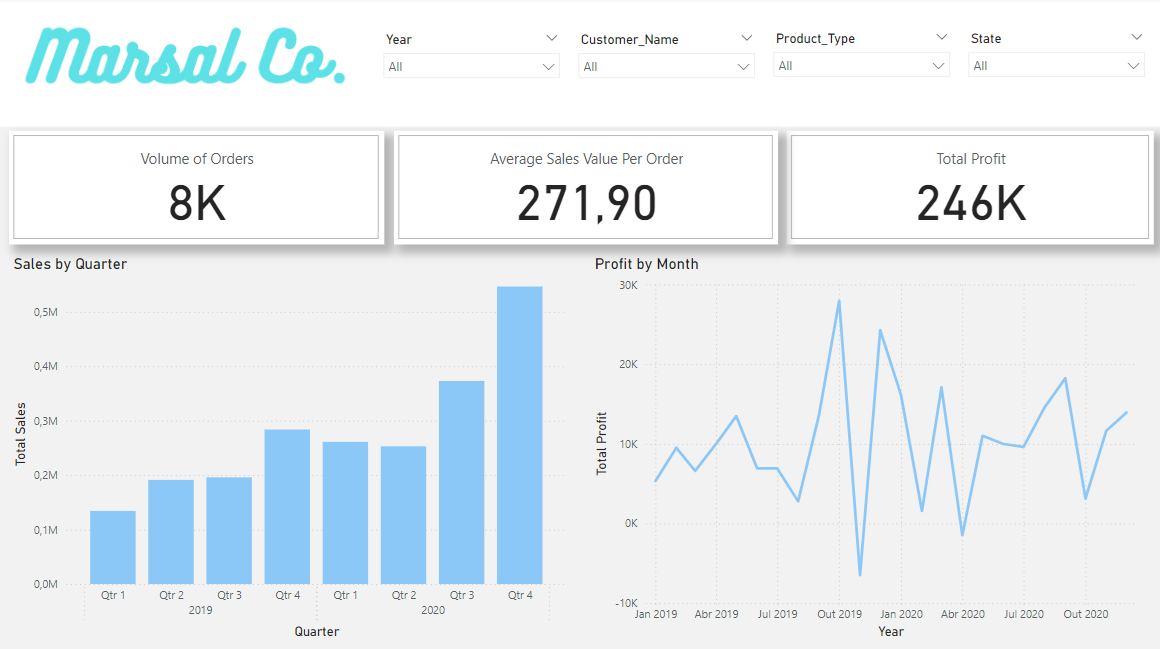

The page's visual inventory and layout, read from the dashboard file:
{"tool":"powerbi","page":{"name":"Overview","canvas":[1280,720],"ordinal":0},"visuals":[{"type":"cardVisual","title":"Volume of Orders","fields":{"Data":["_Measures.Order_Volume"]},"box":[11,146.8,411.7,124.9],"z":0},{"type":"cardVisual","fields":{"Data":["_Measures.Total Profit"]},"box":[864.5,146.8,403.4,124.9],"z":1000},{"type":"cardVisual","title":"Average Order Value","fields":{"Data":["_Measures.Average Sales Value Per Order"]},"box":[433.6,146.8,421.3,124.9],"z":2000},{"type":"columnChart","title":"Sales by Quarter","fields":{"Category":["Dim_Date.Date.Variation.Date Hierarchy.Year","Dim_Date.Date.Variation.Date Hierarchy.Quarter"],"Y":["_Measures.Total Sales"]},"box":[11,282.7,617.5,426.8],"z":3000},{"type":"lineChart","title":"Profit by Month","fields":{"Y":["_Measures.Total Profit"],"Category":["Dim_Date.Date.Variation.Date Hierarchy.Year","Dim_Date.Date.Variation.Date Hierarchy.Month"]},"box":[649.1,282.7,618.9,426.8],"z":4000},{"type":"slicer","fields":{"Values":["Dim_Location.State"]},"box":[1053.9,72.7,214.1,67.2],"z":5000},{"type":"slicer","fields":{"Values":["Dim_Date.Date.Variation.Date Hierarchy.Year"]},"box":[411.7,67.2,214.1,67.2],"z":6000},{"type":"slicer","fields":{"Values":["Dim_Client.Customer_Name"]},"box":[625.7,67.2,214.1,67.2],"z":7000},{"type":"slicer","fields":{"Values":["Dim_Product.Product_Type"]},"box":[839.8,72.7,214.1,67.2],"z":8000},{"type":"image","box":[11,9.6,391.1,124.9],"z":9000},{"type":"shape","box":[415.5,9.6,864.5,52.1],"z":9001},{"type":"textbox","box":[980.9,9.6,299.1,52.1],"z":9002}]}

Visuals, with their boxes in screenshot pixels (x1, y1, x2, y2), scaled from the page's 1280x720 canvas onto the 1160x649 screenshot:
"Volume of Orders" cardVisual: {"x1": 10, "y1": 132, "x2": 383, "y2": 245}
cardVisual - _Measures.Total Profit: {"x1": 783, "y1": 132, "x2": 1149, "y2": 245}
"Average Order Value" cardVisual: {"x1": 393, "y1": 132, "x2": 775, "y2": 245}
"Sales by Quarter" columnChart: {"x1": 10, "y1": 255, "x2": 570, "y2": 640}
"Profit by Month" lineChart: {"x1": 588, "y1": 255, "x2": 1149, "y2": 640}
slicer - Dim_Location.State: {"x1": 955, "y1": 66, "x2": 1149, "y2": 126}
slicer - Dim_Date.Date.Variation.Date Hierarchy.Year: {"x1": 373, "y1": 61, "x2": 567, "y2": 121}
slicer - Dim_Client.Customer_Name: {"x1": 567, "y1": 61, "x2": 761, "y2": 121}
slicer - Dim_Product.Product_Type: {"x1": 761, "y1": 66, "x2": 955, "y2": 126}
image: {"x1": 10, "y1": 9, "x2": 364, "y2": 121}
shape: {"x1": 377, "y1": 9, "x2": 1159, "y2": 56}
textbox: {"x1": 889, "y1": 9, "x2": 1159, "y2": 56}
